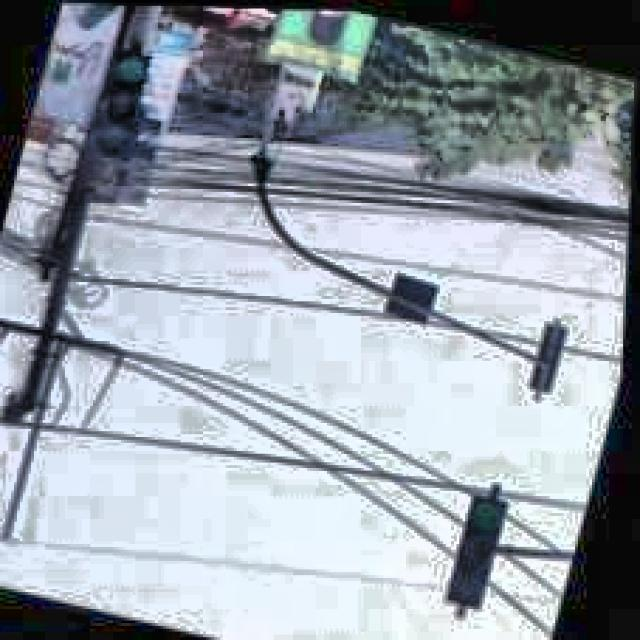green: (90, 45, 158, 164), (448, 491, 516, 609)
